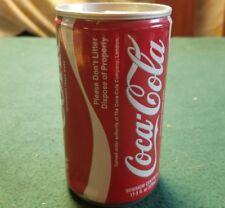metal: (56, 3, 172, 205)
